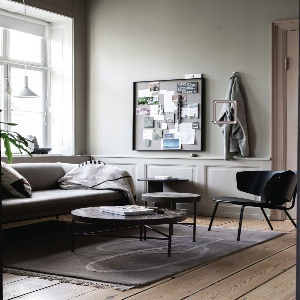square: (211, 99, 237, 124)
